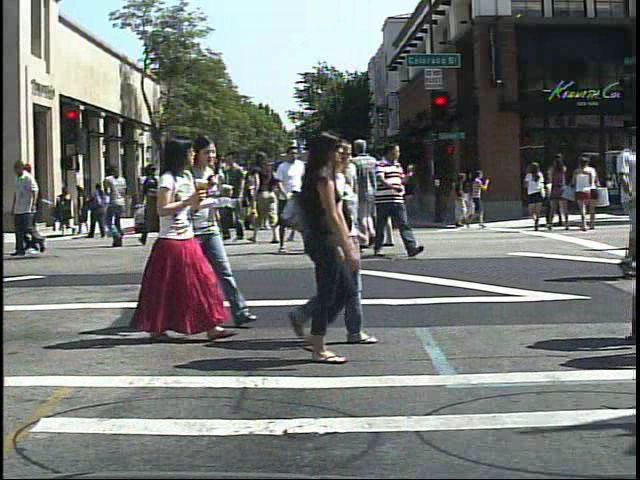person: (274, 129, 365, 368), (285, 137, 375, 348), (132, 129, 212, 344), (188, 131, 239, 330), (373, 136, 420, 261), (357, 137, 402, 259), (272, 139, 312, 259), (605, 131, 636, 283), (353, 137, 394, 251), (375, 141, 415, 250), (250, 144, 290, 247), (135, 159, 176, 252), (285, 147, 318, 248), (100, 160, 137, 249), (523, 156, 551, 236), (269, 165, 289, 234), (59, 183, 79, 233)
